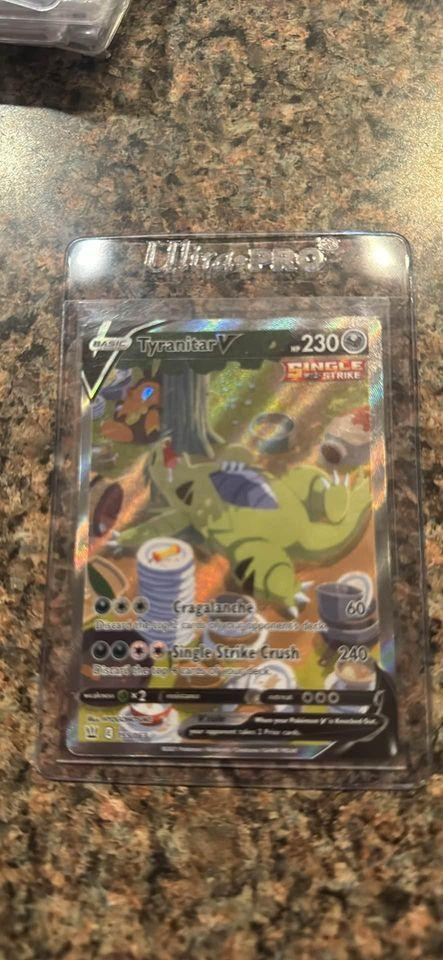card: (65, 314, 400, 764)
